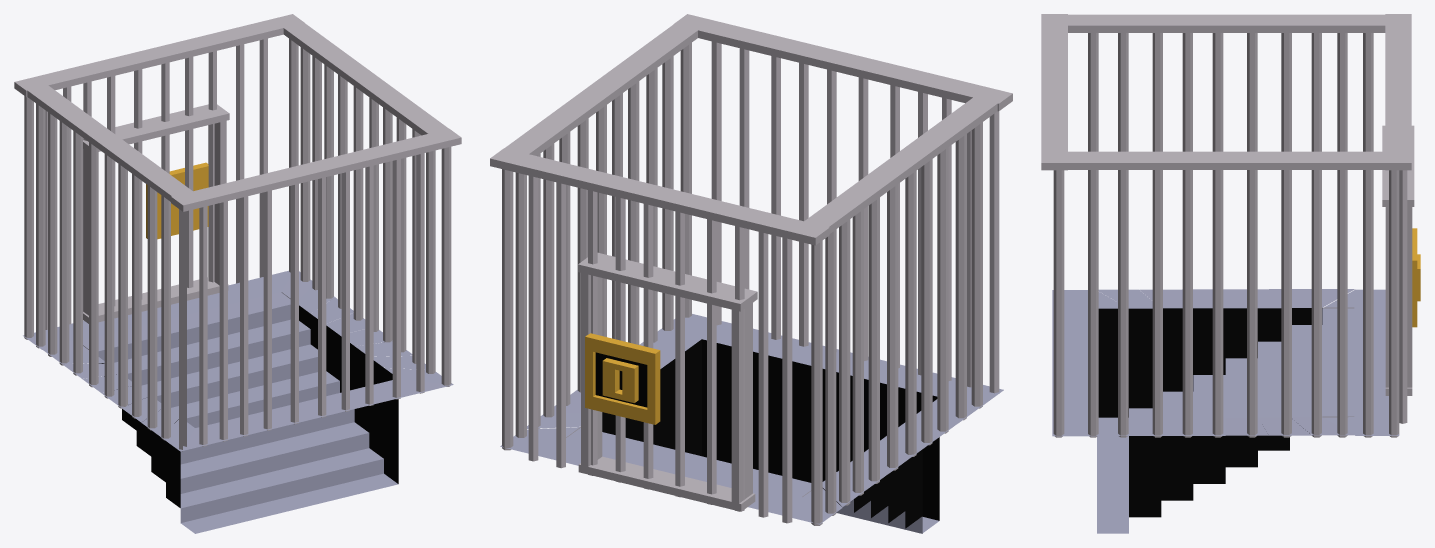
File: M_Stairs.fbx
The picture shows the model from 3 angles, left to right: view 1: azimuth 30°, elevation 25°; view 2: azimuth 150°, elevation 25°; view 3: azimuth 270°, elevation 25°; orthographic projection. The views are drawn at different scales.
Parts seen in each view (by area): view 1: Cube.003; view 2: Cube.003; view 3: Cube.003.
Boxes of the visible parts, x1,y1,x2,y2 form: Cube.003: (14,14,461,533); Cube.003: (490,14,1012,533); Cube.003: (1041,14,1420,533).
Bounding box in the file's own units: 821 × 1004 × 882.
